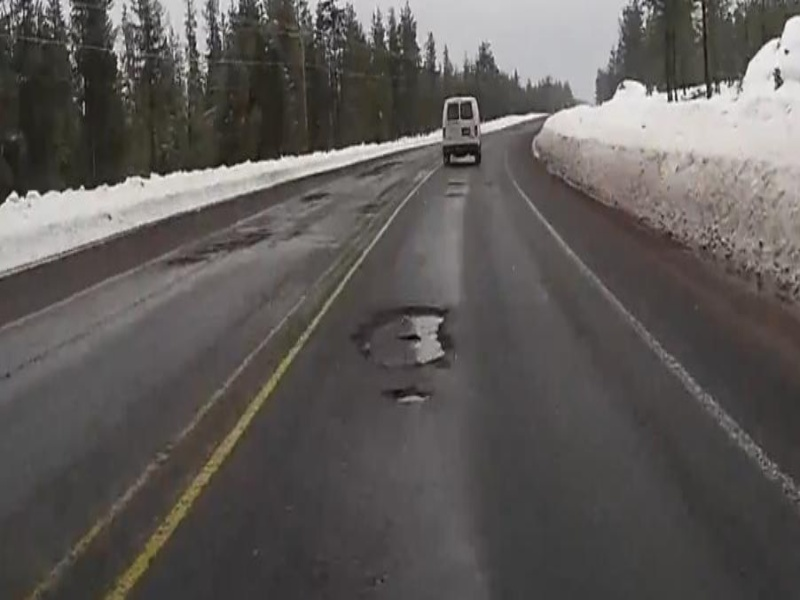pothole: (358, 303, 456, 373), (381, 387, 434, 408)
